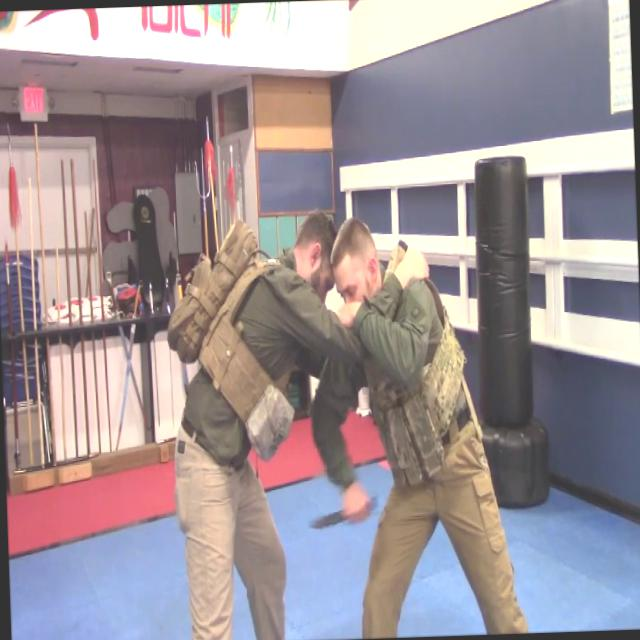knife: (309, 486, 375, 542)
